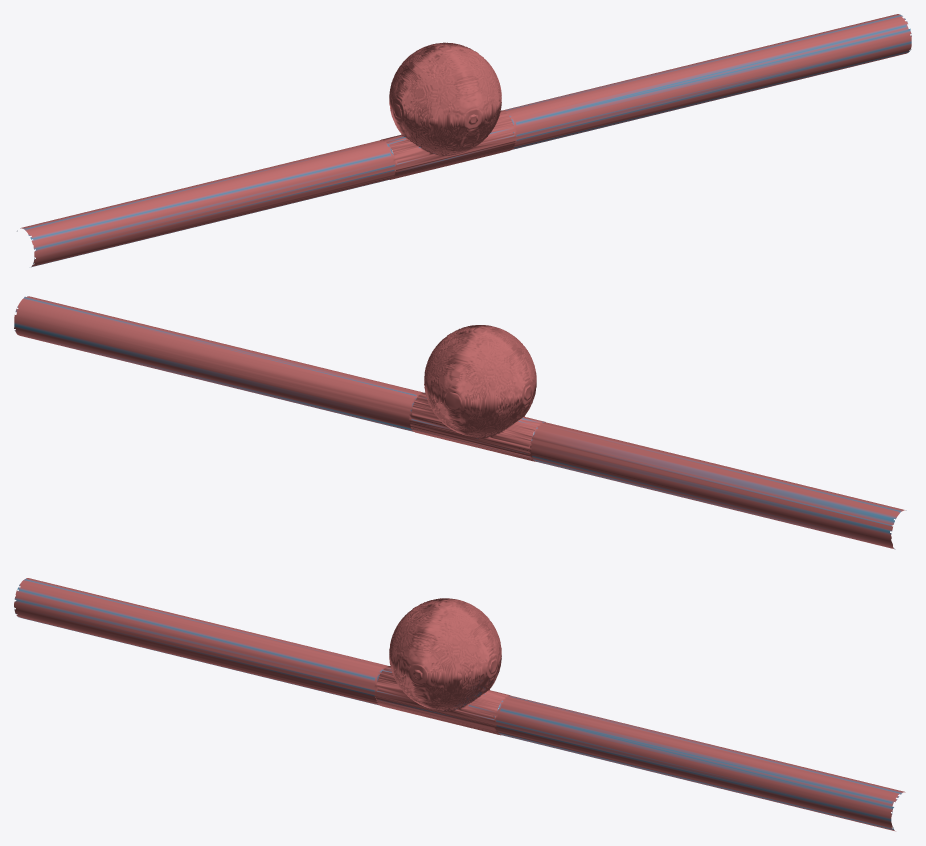
The picture shows the model from 3 angles, top to bottom: view 1: azimuth 30°, elevation 25°; view 2: azimuth 150°, elevation 25°; view 3: azimuth 330°, elevation 25°; orthographic projection.
Parts seen in each view (by area): view 1: geometry_0; view 2: geometry_0; view 3: geometry_0.
Part boxes in pixels (<box>): geometry_0: <box>17,14,911,267</box>; geometry_0: <box>14,296,906,549</box>; geometry_0: <box>14,578,905,831</box>.
Bounding box in the file's own units: 1.92 × 0.2408 × 0.2122.
